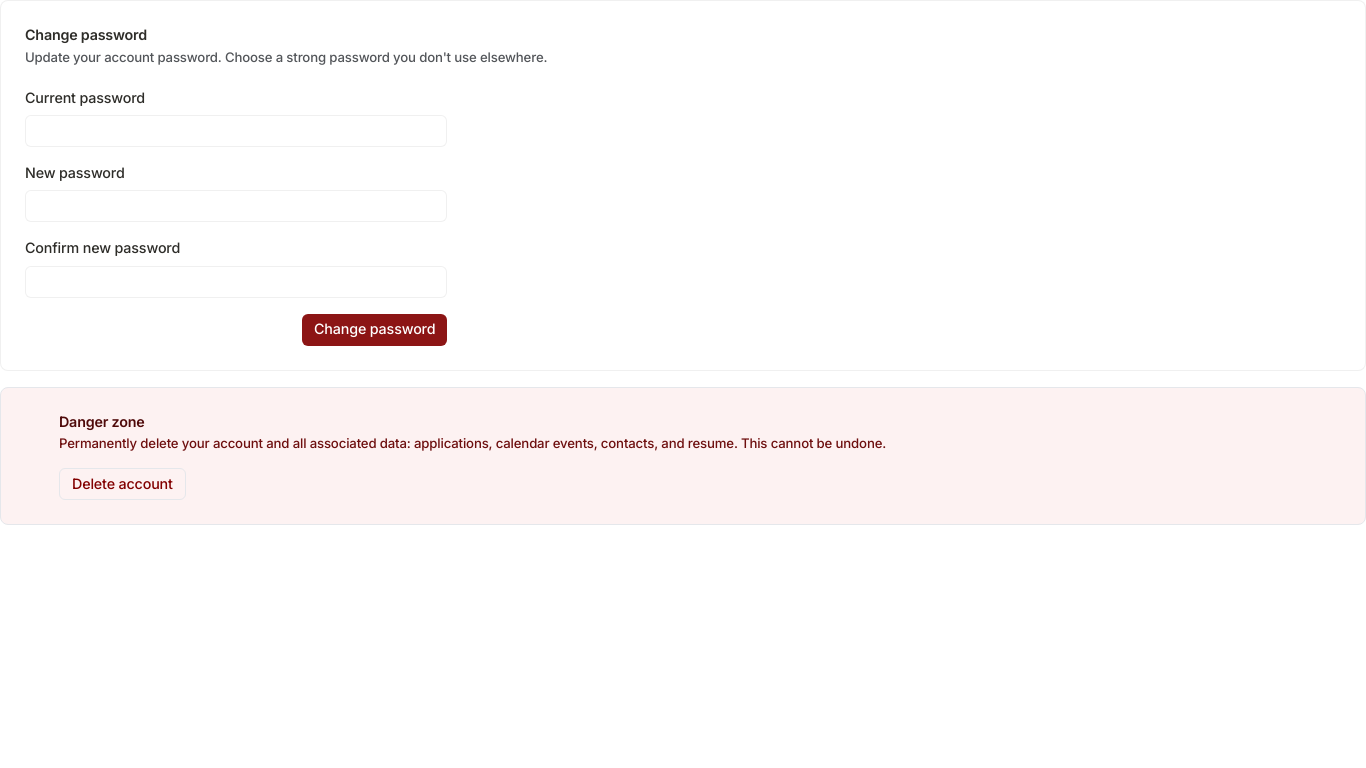
it: DangerZone — modal interaction › should open delete modal when delete account button is clicked
The width and height of the screenshot is (1366, 768).
Click the button "Delete account" at (122, 484), box [59,468,186,500]
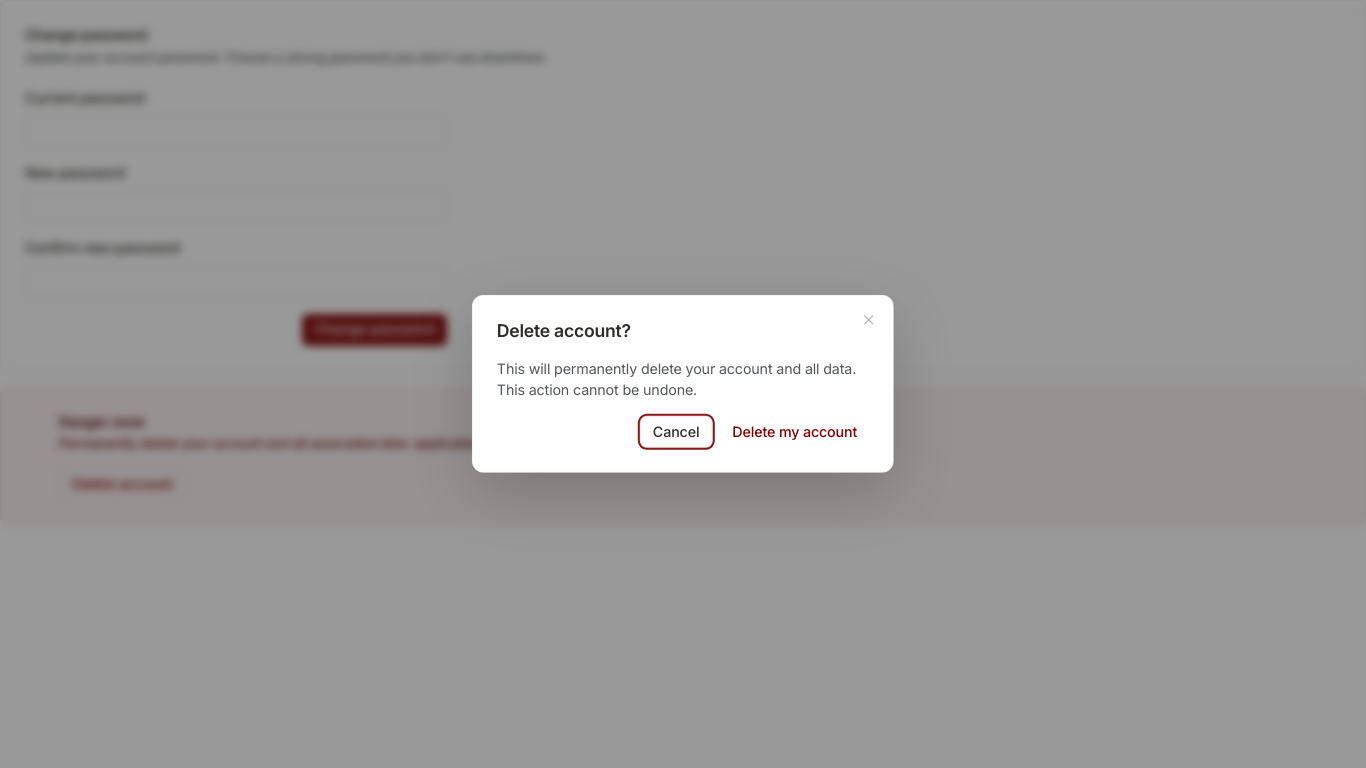
Now the dialog is shown, box [472,295,894,473]
Now the heading "Delete account?" is shown, box [497,320,631,341]
